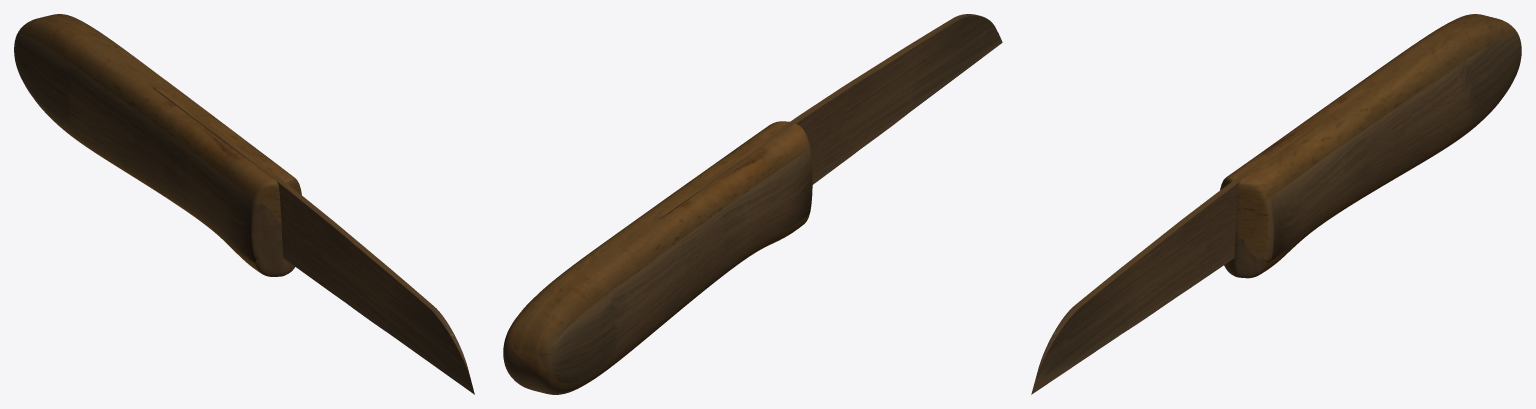
The model's file is KNIFE_1D.fbx.
3 views of the same model, side by side, from view 1: azimuth 30°, elevation 25°; view 2: azimuth 150°, elevation 25°; view 3: azimuth 330°, elevation 25° (orthographic). The views are drawn at different scales.
Visible parts, largest first — view 1: Knife_Handle, Knife_Blade; view 2: Knife_Handle, Knife_Blade; view 3: Knife_Handle, Knife_Blade.
Part boxes in pixels (<box>): Knife_Handle: <box>14,14,301,276</box>; Knife_Blade: <box>152,86,474,394</box>; Knife_Handle: <box>503,121,812,394</box>; Knife_Blade: <box>655,14,1002,219</box>; Knife_Handle: <box>1220,14,1521,278</box>; Knife_Blade: <box>1031,85,1372,394</box>.
Bounding box in the file's own units: 32.45 × 54.88 × 441.
2 materials, 2 textured.
